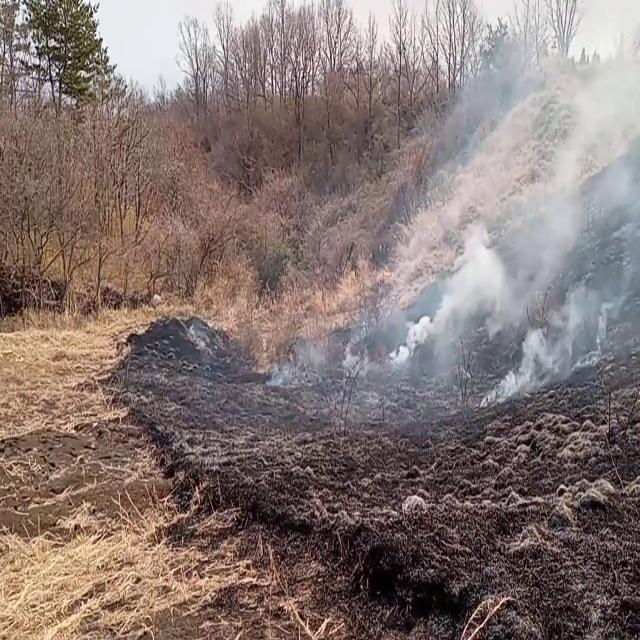Smoke: (395, 2, 640, 405)
